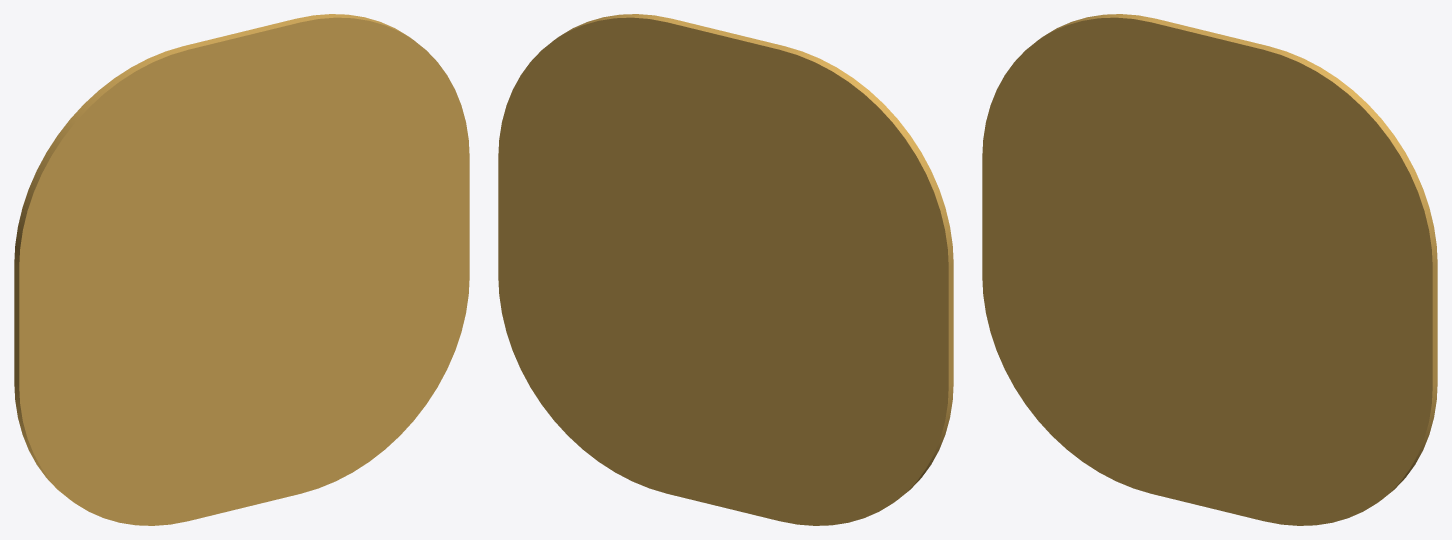
File: Base_lower.gltf
3 views of the same model, side by side, from view 1: azimuth 30°, elevation 25°; view 2: azimuth 150°, elevation 25°; view 3: azimuth 330°, elevation 25° (orthographic).
Visible parts, largest first — view 1: mesh82, mesh81, mesh84, mesh80; view 2: mesh83, mesh81, mesh84, mesh80; view 3: mesh82, mesh79, mesh78, mesh80.
Part boxes in pixels (x1,y1,x2,y2): mesh82: (19,17,469,525); mesh81: (14,46,187,267); mesh84: (14,264,19,385); mesh80: (183,18,300,49); mesh83: (498,17,948,525); mesh81: (780,46,953,267); mesh84: (948,264,953,385); mesh80: (667,18,784,49); mesh82: (982,17,1432,525); mesh79: (1264,46,1437,267); mesh78: (1432,264,1437,385); mesh80: (1151,18,1268,49).
Size of the model in its own units: 0.42 by 0.42 by 0.008.
